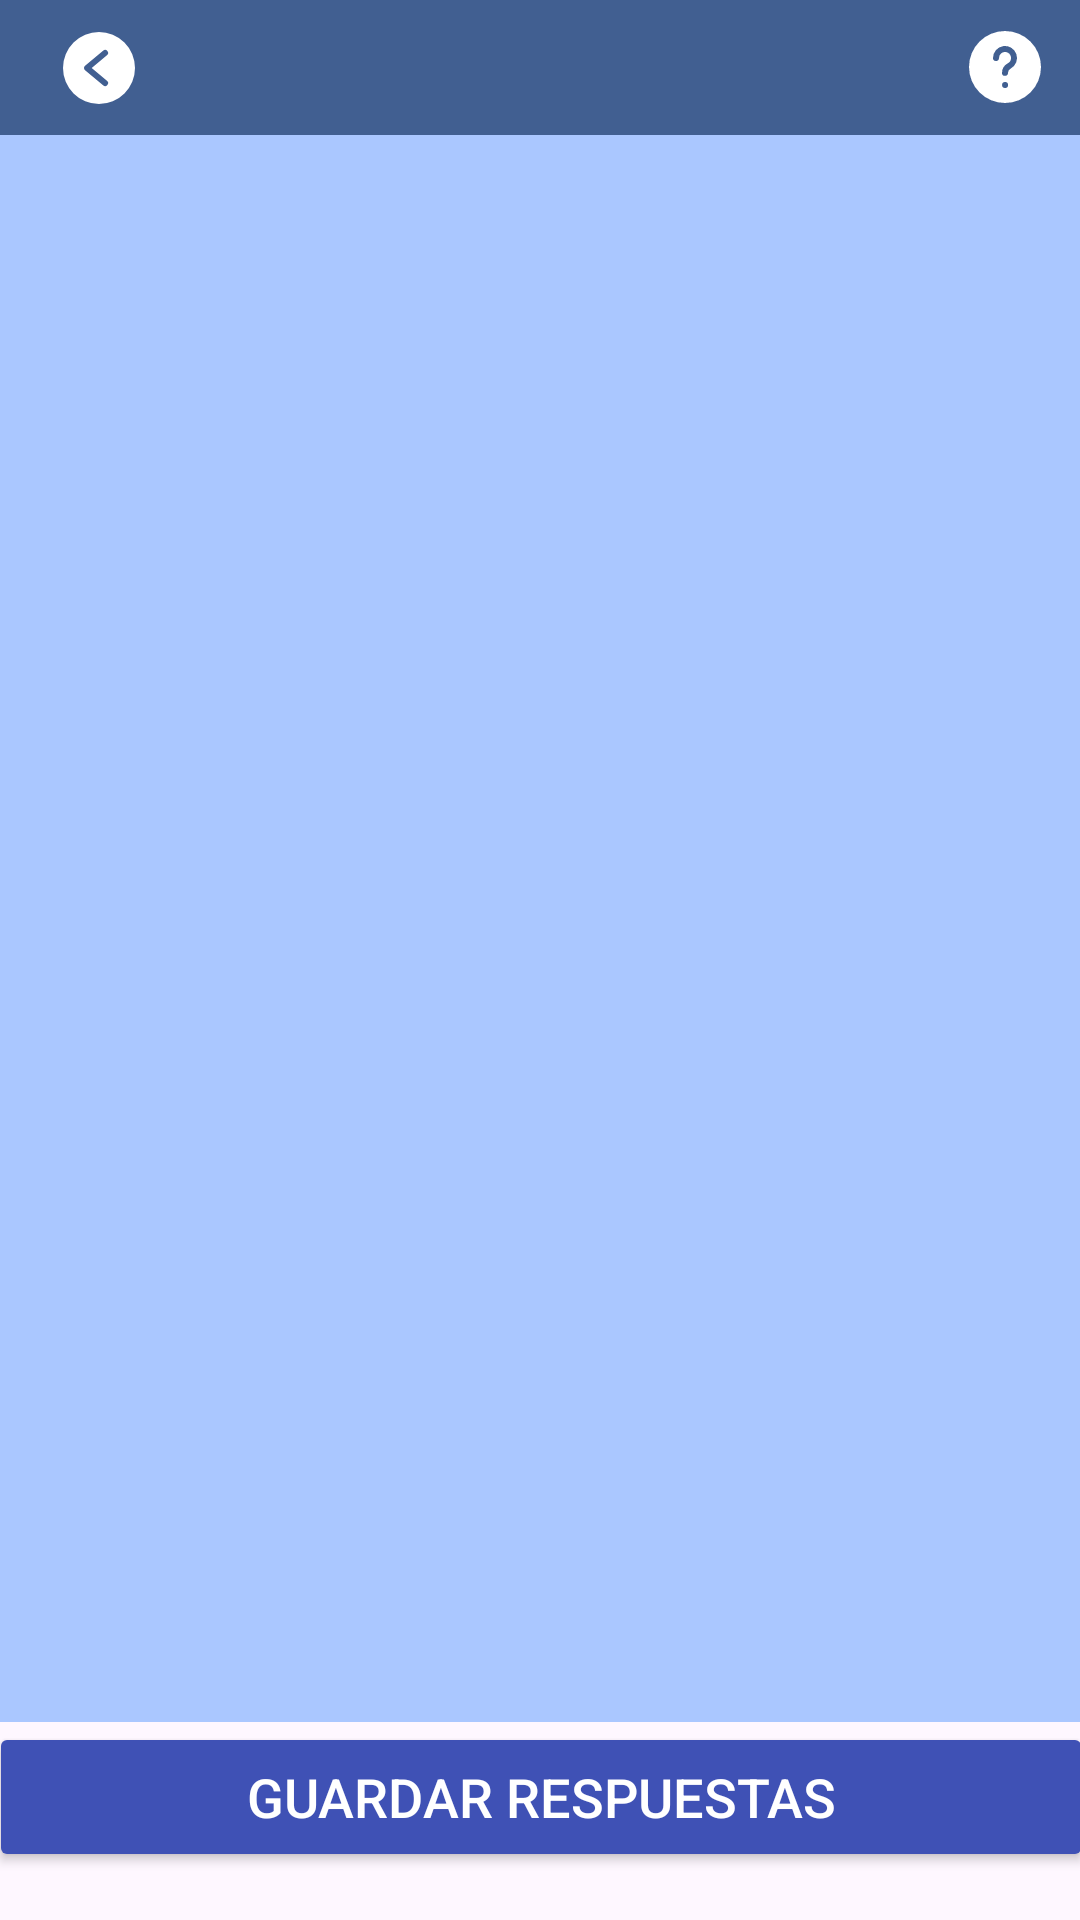

Locate icon controls on the screen. Image size 1080x1920, boxes as box=[x1, y1, x2, y2].
help: box=[969, 31, 1041, 103]
